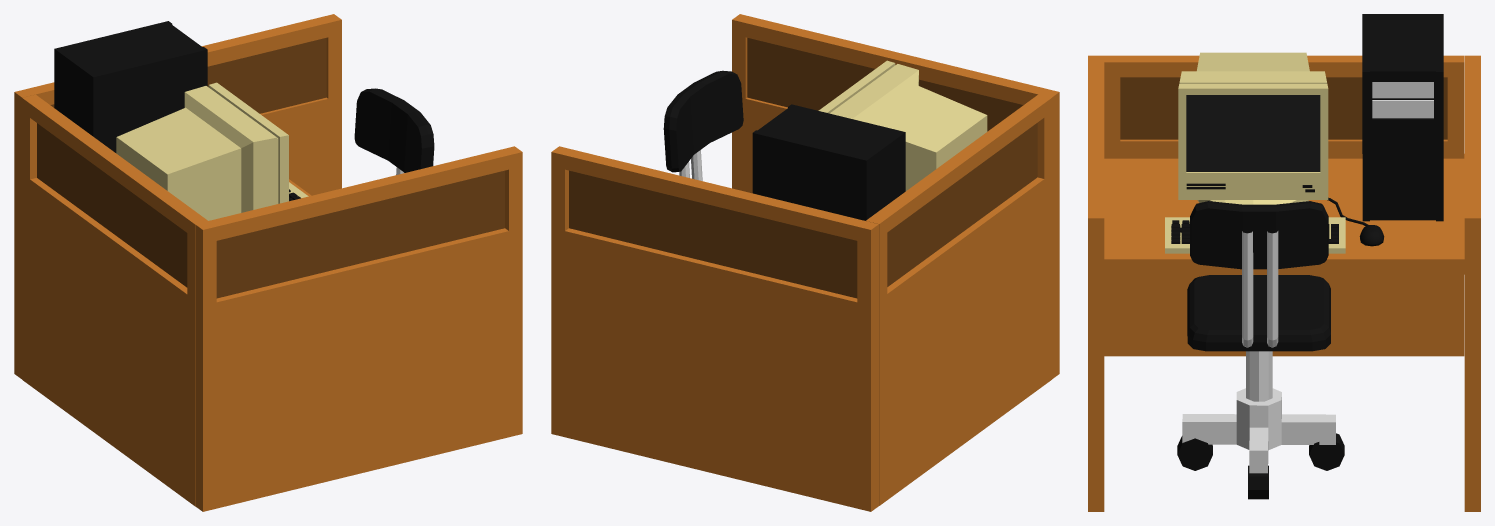
The model's file is Set Komputer 1.fbx.
The picture shows the model from 3 angles, left to right: view 1: azimuth 30°, elevation 25°; view 2: azimuth 150°, elevation 25°; view 3: azimuth 270°, elevation 25°; orthographic projection. The views are drawn at different scales.
Visible parts, largest first — view 1: Plane.015, Circle, Cube.006, Vert.003; view 2: Plane.015, Cube.006, Circle, Vert.003; view 3: Plane.015, Vert.003, Circle, Cube.006.
Boxes of the visible parts, bbox=[...] form: Plane.015: bbox=[14, 14, 522, 511]; Circle: bbox=[116, 82, 308, 220]; Cube.006: bbox=[54, 21, 207, 152]; Vert.003: bbox=[354, 88, 434, 174]; Plane.015: bbox=[551, 14, 1059, 511]; Cube.006: bbox=[752, 104, 905, 220]; Circle: bbox=[818, 60, 987, 190]; Vert.003: bbox=[663, 70, 743, 180]; Plane.015: bbox=[1088, 55, 1480, 511]; Vert.003: bbox=[1177, 201, 1344, 499]; Circle: bbox=[1165, 52, 1384, 253]; Cube.006: bbox=[1362, 14, 1443, 221].
Bounding box in the file's own units: 1046 × 1075 × 1068.
